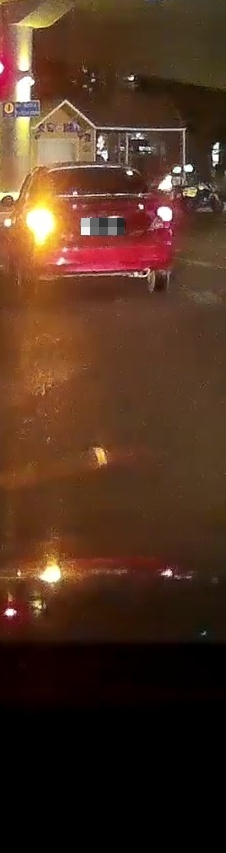L_light: (27, 210, 57, 234)
R_light: (156, 205, 172, 222)
T_light: (83, 167, 104, 171)
night-left: (25, 161, 174, 297)
plate_1: (81, 218, 124, 235)
